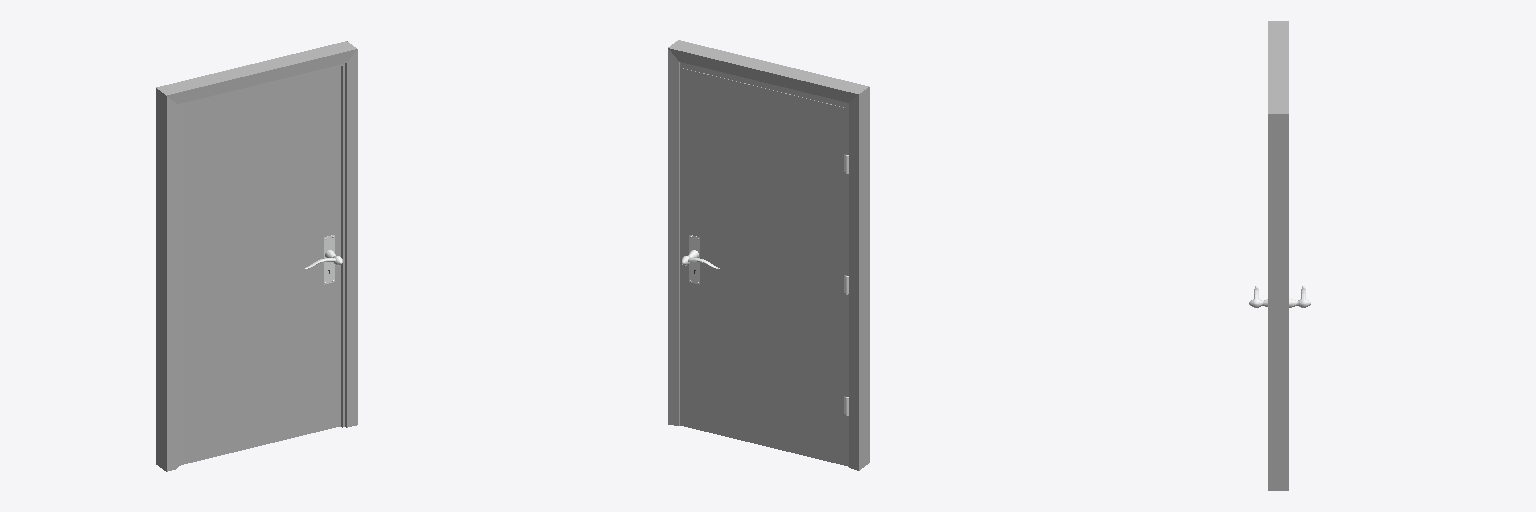
3 views of the same model, side by side, from view 1: azimuth 30°, elevation 25°; view 2: azimuth 150°, elevation 25°; view 3: azimuth 270°, elevation 25° (orthographic).
Parts seen in each view (by area): view 1: door_body, door_frame; view 2: door_body, door_frame; view 3: door_frame.
Boxes of the visible parts, <box> form: door_body: <box>181,70,342,464</box>; door_frame: <box>156,41,357,471</box>; door_body: <box>681,68,846,465</box>; door_frame: <box>668,40,869,470</box>; door_frame: <box>1268,21,1288,490</box>.
Bounding box in the file's own units: 128 × 240 × 35.86.
Materials: 2 (2 with a texture image).